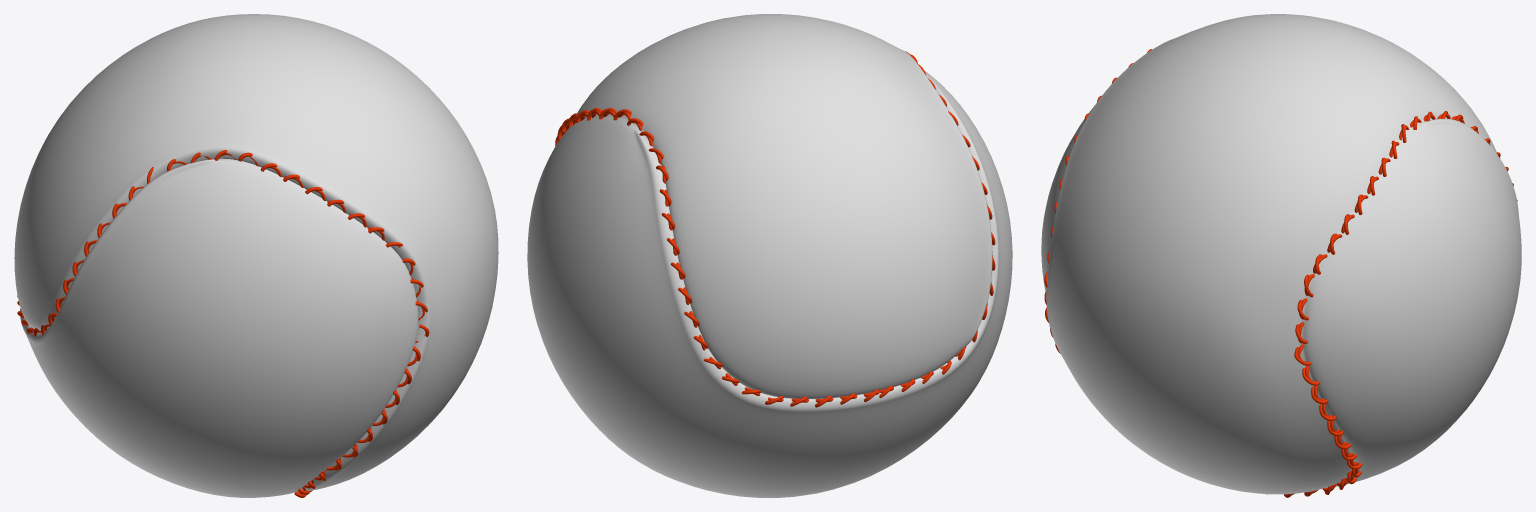
Rendered from baseball.glb.
The picture shows the model from 3 angles, left to right: view 1: azimuth 30°, elevation 25°; view 2: azimuth 150°, elevation 25°; view 3: azimuth 270°, elevation 25°; orthographic projection.
Visible parts, largest first — view 1: BASEBALL; view 2: BASEBALL; view 3: BASEBALL.
Boxes of the visible parts, <box> form: BASEBALL: <box>14,14,498,497</box>; BASEBALL: <box>527,14,1012,497</box>; BASEBALL: <box>1041,14,1521,497</box>.
Size of the model in its own units: 3.43 by 3.38 by 3.39.
